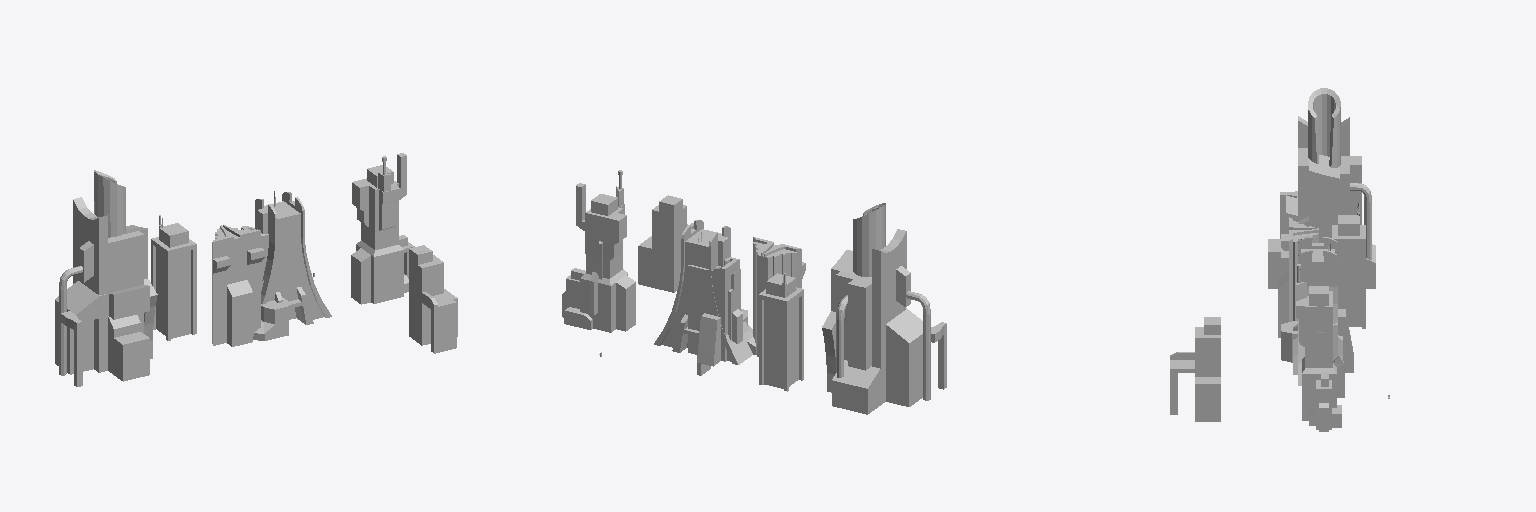
File: TerminalResized.obj
The picture shows the model from 3 angles: view 1: azimuth 30°, elevation 25°; view 2: azimuth 150°, elevation 25°; view 3: azimuth 270°, elevation 25°; orthographic projection.
Parts seen in each view (by area): view 1: building_1, building_4, Building_6, building_5, building_2, Building_9, Building_7; view 2: building_1, building_4, building_2, building_5, Building_7, Building_9, Building_6, building_8, building_3; view 3: building_1, building_4, Building_9, building_2, building_5, Building_6, building_8, Building_7.
Part boxes in pixels (x1,y1,x2,y2): building_1: (55, 170, 157, 386); building_4: (351, 153, 406, 304); Building_6: (212, 225, 264, 346); building_5: (255, 192, 331, 324); building_2: (151, 215, 196, 340); Building_9: (409, 245, 457, 353); Building_7: (241, 191, 296, 340); building_1: (822, 203, 946, 414); building_4: (576, 170, 635, 332); building_2: (759, 273, 803, 391); building_5: (654, 220, 752, 364); Building_7: (687, 232, 756, 375); Building_9: (638, 195, 693, 292); Building_6: (753, 237, 805, 356); building_8: (562, 268, 592, 329); building_3: (721, 269, 742, 360); building_1: (1268, 88, 1375, 288); building_4: (1296, 264, 1344, 420); Building_9: (1170, 317, 1220, 421); building_2: (1332, 203, 1365, 328); building_5: (1293, 237, 1342, 385); Building_6: (1278, 217, 1318, 337); building_8: (1309, 372, 1341, 431); Building_7: (1281, 244, 1353, 372).
Size of the model in its own units: 112 by 59.32 by 58.82.